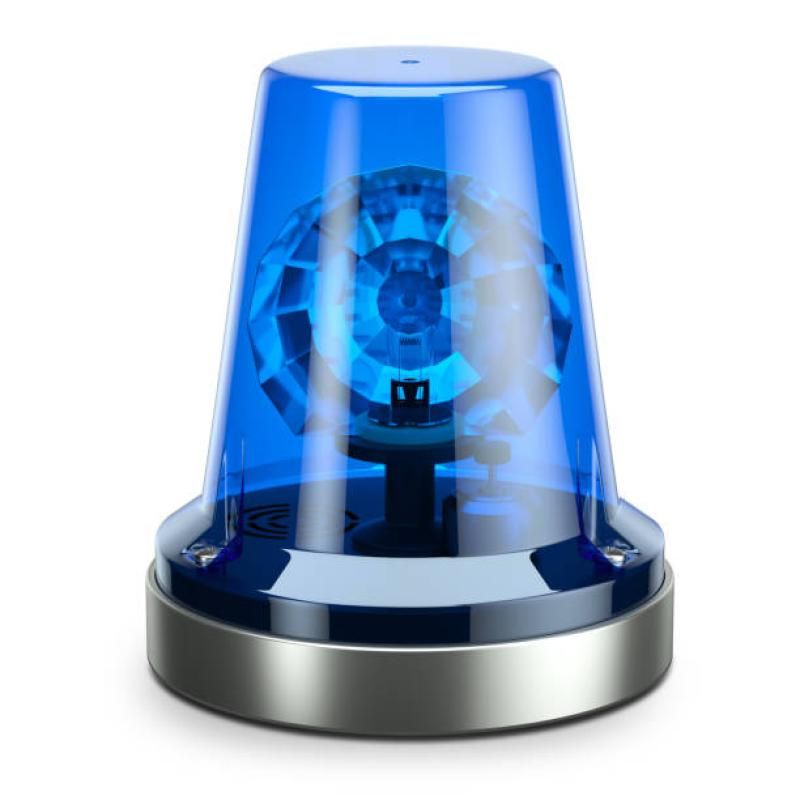AmbulanceSiren: (153, 20, 694, 767)
